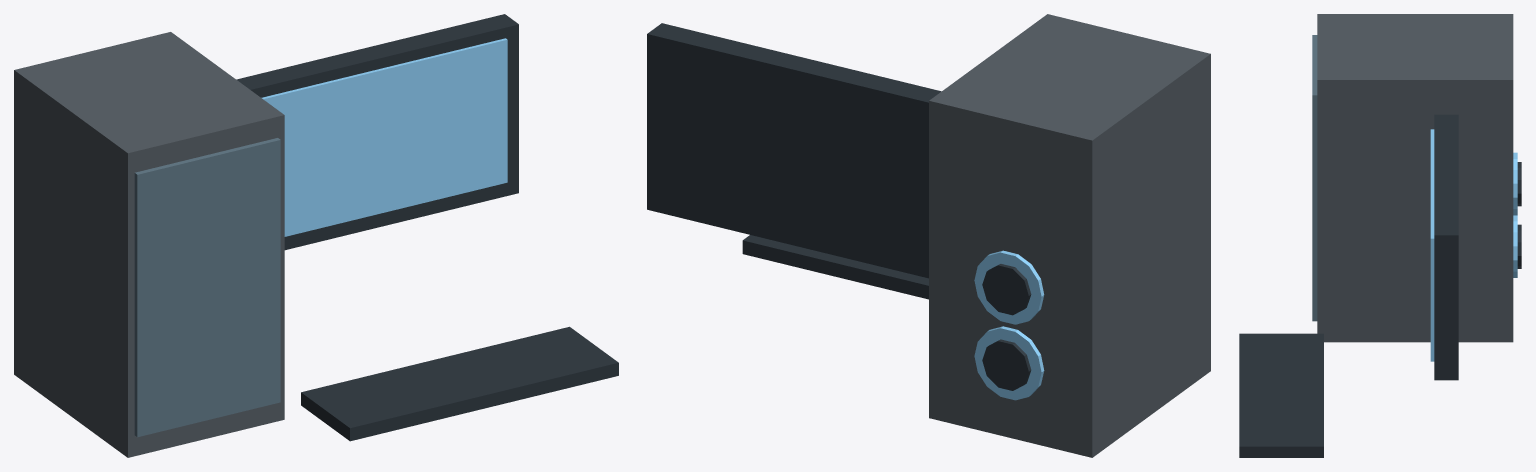
The model's file is gaming-pc-lod1.glb.
3 renders of one model, left to right at view 1: azimuth 30°, elevation 25°; view 2: azimuth 150°, elevation 25°; view 3: azimuth 270°, elevation 25°, orthographic. The views are drawn at different scales.
Visible parts, largest first — view 1: tower, side_glass, screen, keyboard, monitor; view 2: tower, monitor, keyboard, fan_outer_0, fan_outer_1, fan_inner_0, fan_inner_1; view 3: tower, keyboard, monitor, side_glass, screen, fan_outer_1, fan_outer_0.
Part boxes in pixels (<box>): tower: <box>14,32,284,457</box>; side_glass: <box>134,138,280,437</box>; screen: <box>261,38,507,236</box>; keyboard: <box>301,326,618,441</box>; monitor: <box>236,14,518,250</box>; tower: <box>929,14,1210,457</box>; monitor: <box>647,23,941,278</box>; keyboard: <box>742,235,928,299</box>; fan_outer_0: <box>974,326,1044,400</box>; fan_outer_1: <box>974,250,1044,324</box>; fan_inner_0: <box>982,339,1031,390</box>; fan_inner_1: <box>982,264,1031,315</box>; tower: <box>1317,14,1513,342</box>; keyboard: <box>1239,333,1323,457</box>; monitor: <box>1434,114,1458,380</box>; side_glass: <box>1312,35,1317,321</box>; screen: <box>1430,129,1434,361</box>; fan_outer_1: <box>1513,152,1517,215</box>; fan_outer_0: <box>1513,215,1517,277</box>.
Bounding box in the file's own units: 10.25 × 6.5 × 6.34.
